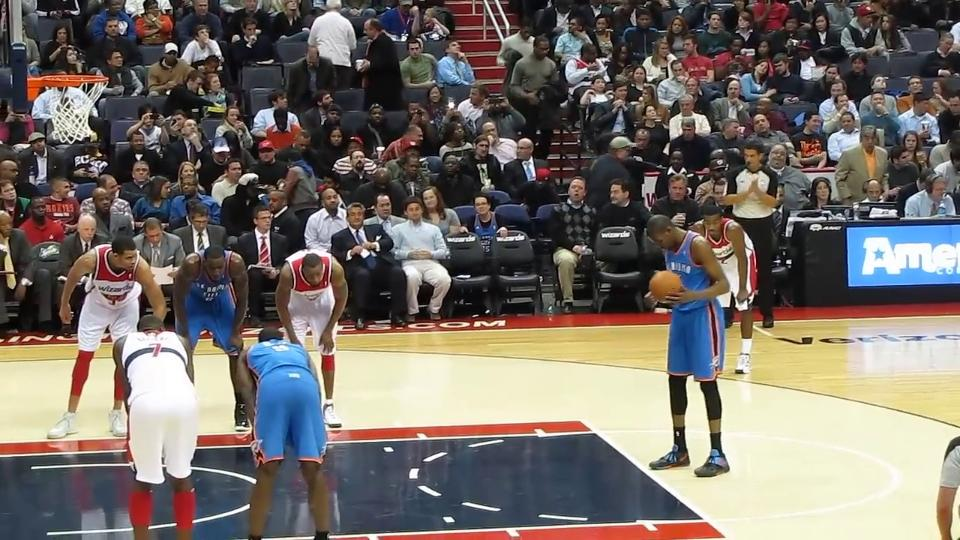hoop: (21, 71, 113, 92)
